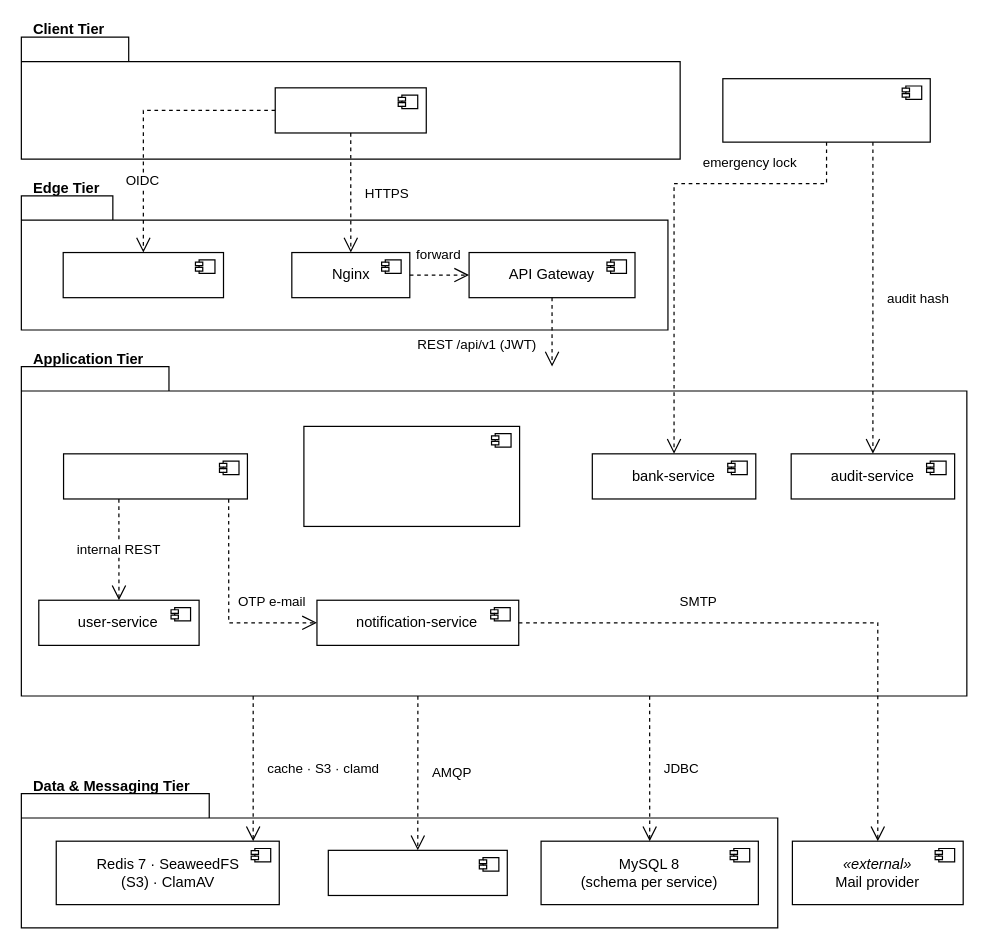
This 988x949 diagram has some shape labels left out. Each missing label, with the centre of its shape:
"contract-service" goes at [154,476].
"Keycloak 24" goes at [143,274].
"RabbitMQ 3.13" goes at [417,872].
"React SPA" goes at [350,110].
"«external» External Verifier" goes at [826,109].
"«subsystem» escrow, inspection, reputation, product, file, pricing, analytics" goes at [411,475].
